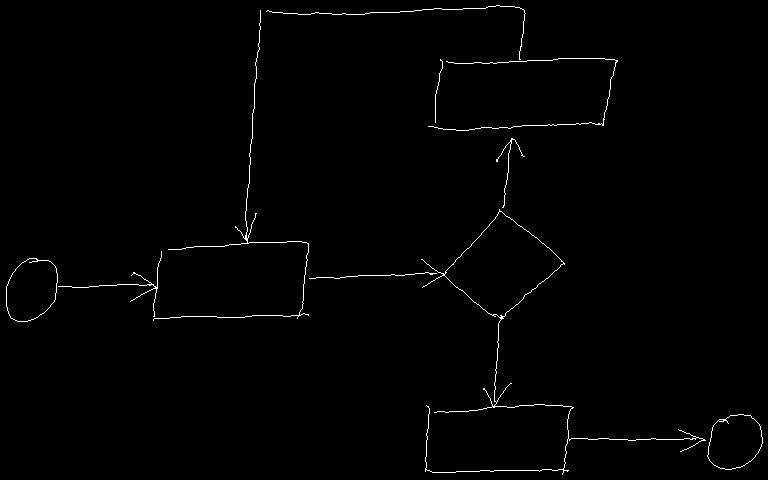arrow: (235, 5, 525, 242), (309, 259, 444, 287), (569, 429, 705, 451), (58, 272, 157, 301), (483, 315, 511, 407), (496, 138, 524, 207)
connection: (6, 258, 57, 321), (707, 414, 762, 469)
decision: (441, 209, 564, 318)
process: (428, 58, 617, 130), (153, 241, 308, 320), (425, 404, 573, 474)
